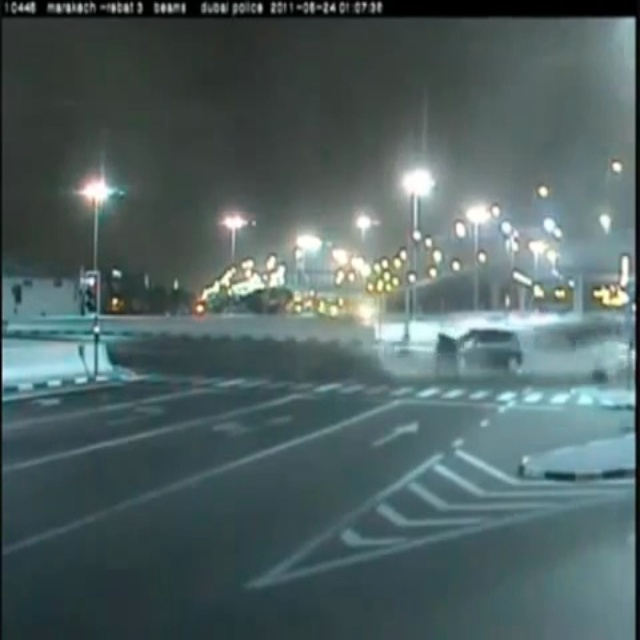acc: (400, 313, 637, 391)
